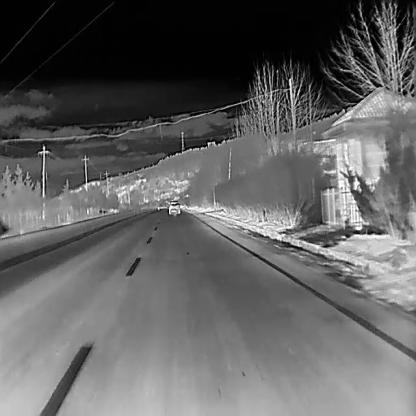car: (168, 199, 180, 215)
